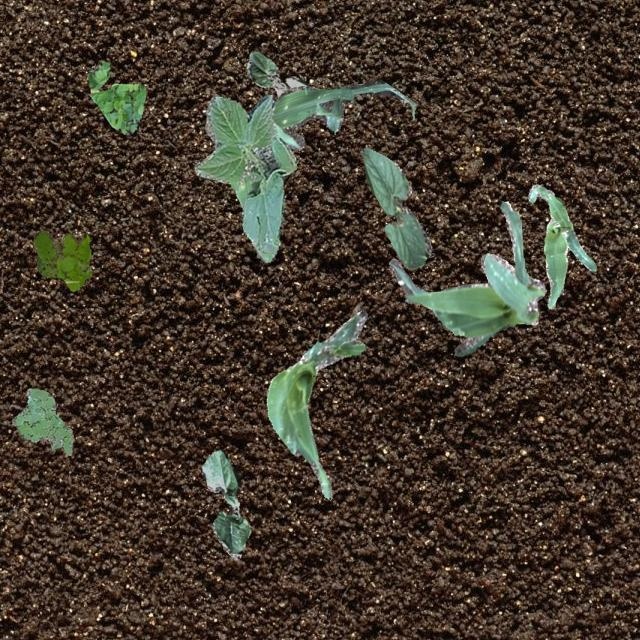crop: (234, 78, 416, 262), (388, 200, 546, 354), (266, 310, 366, 498), (194, 94, 296, 252), (358, 146, 431, 268), (526, 184, 596, 308), (200, 448, 250, 558), (246, 50, 308, 96)
weed: (88, 60, 144, 134), (11, 388, 72, 454), (33, 230, 90, 290)
